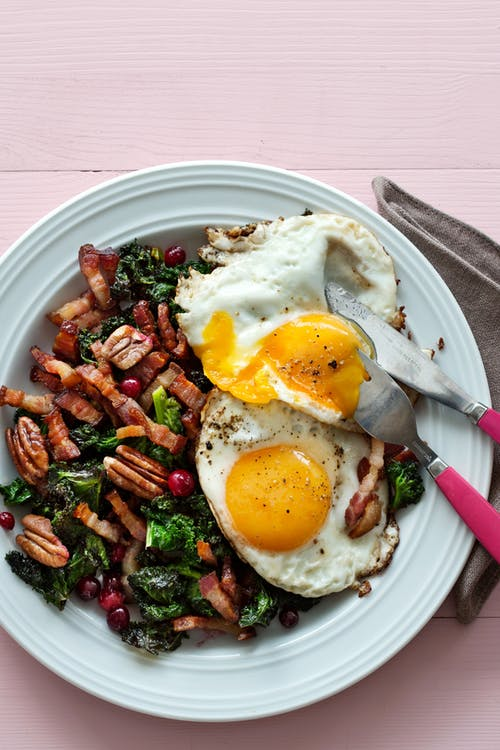fried egg: (211, 279, 381, 572)
